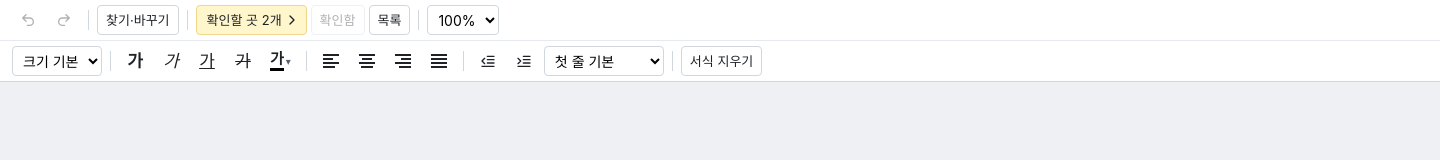
it: 도구 막대: 확인할 곳 › 수를 보이고, 다음 곳으로 가서 확인함을 누르면 그 표시만 지운다
Expected: the button "확인함" is disabled, [311,5,364,35]
Click the button "확인할 곳 2개": x=251, y=20 [196,5,307,35]
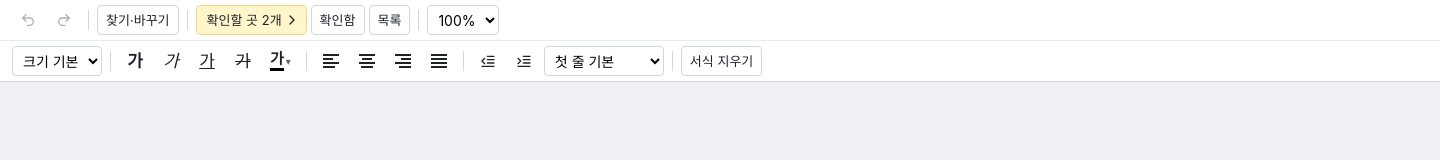
Result: the button "확인함" is enabled
Click the button "확인함": x=338, y=20 [311,5,364,35]
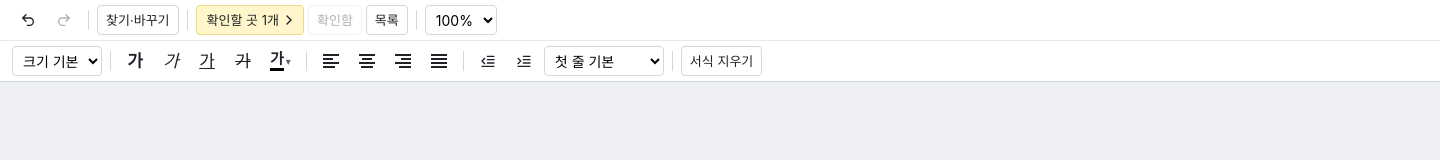
Result: the button "확인할 곳 1개" is shown at [196,5,304,35]
